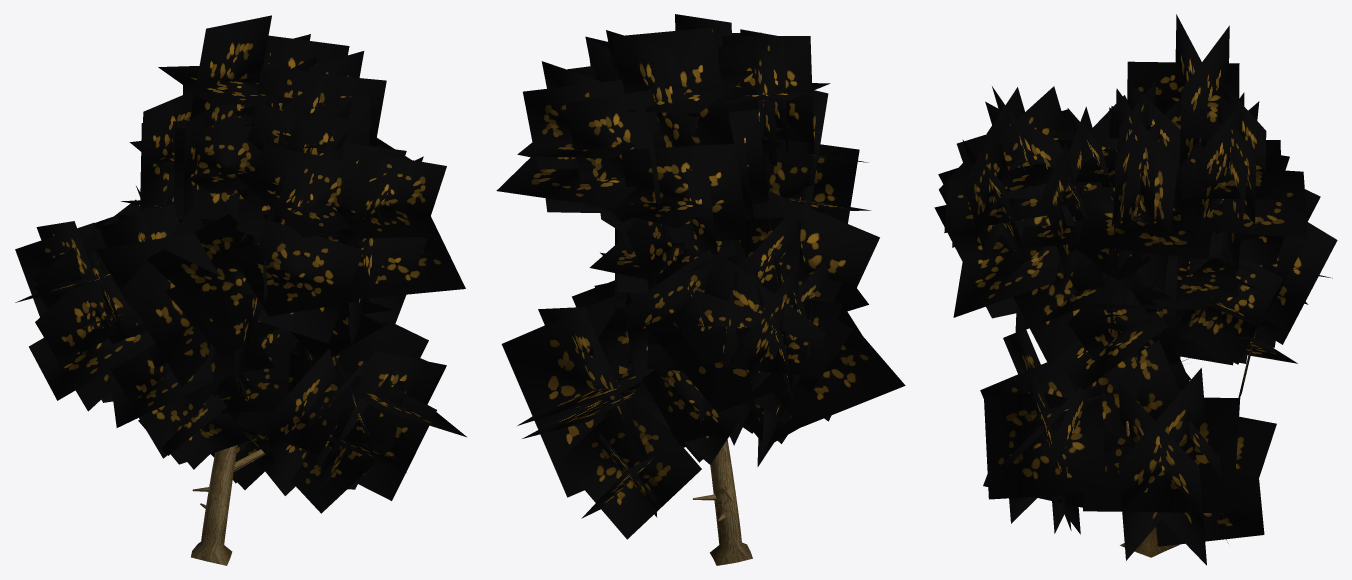
The model's file is env_tree_dry_mature_01.glb.
The picture shows the model from 3 angles, left to right: view 1: azimuth 30°, elevation 25°; view 2: azimuth 150°, elevation 25°; view 3: azimuth 270°, elevation 25°; orthographic projection. The views are drawn at different scales.
Parts seen in each view (by area): view 1: tree_dry_mature_01; view 2: tree_dry_mature_01; view 3: tree_dry_mature_01.
Boxes of the visible parts, left/top/right/bottom form: tree_dry_mature_01: left=15, top=15, right=466, bottom=565; tree_dry_mature_01: left=496, top=14, right=905, bottom=565; tree_dry_mature_01: left=934, top=14, right=1337, bottom=565.
Size of the model in its own units: 3.42 by 4.66 by 3.17.
2 materials, 2 textured.
